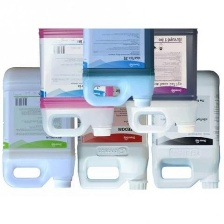cleaning_solution: (36, 10, 118, 139), (0, 64, 77, 190), (122, 14, 199, 136), (76, 67, 150, 190), (149, 68, 222, 192), (81, 0, 156, 109)
